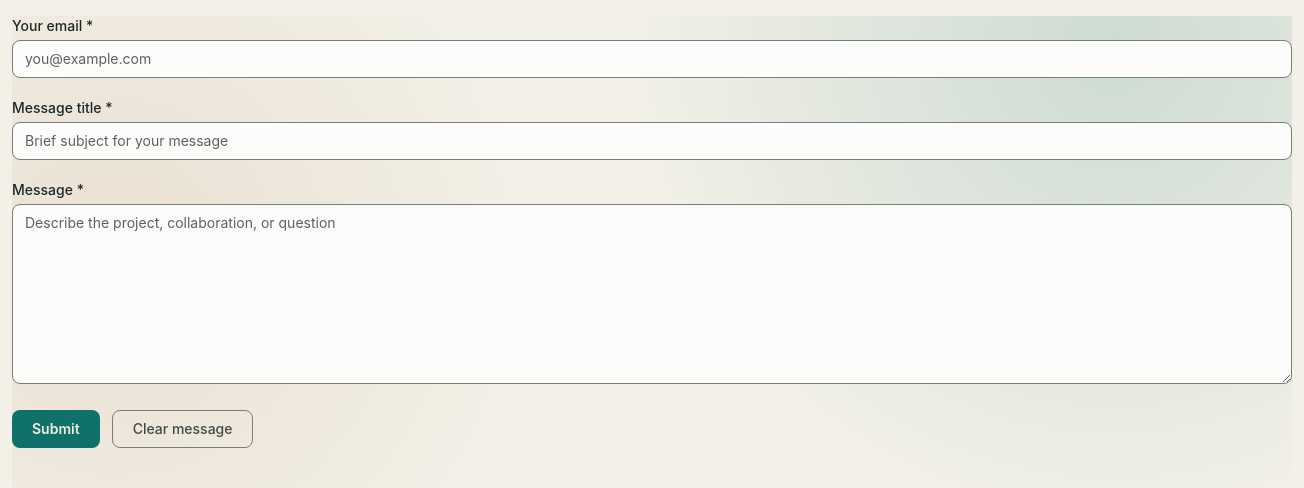
Scenario: ContactForm submit behavior › clear button resets all fields and status
In the field labelled "Your email *": (652, 59) x1=12 y1=40 x2=1292 y2=78, type "visitor@example.com"
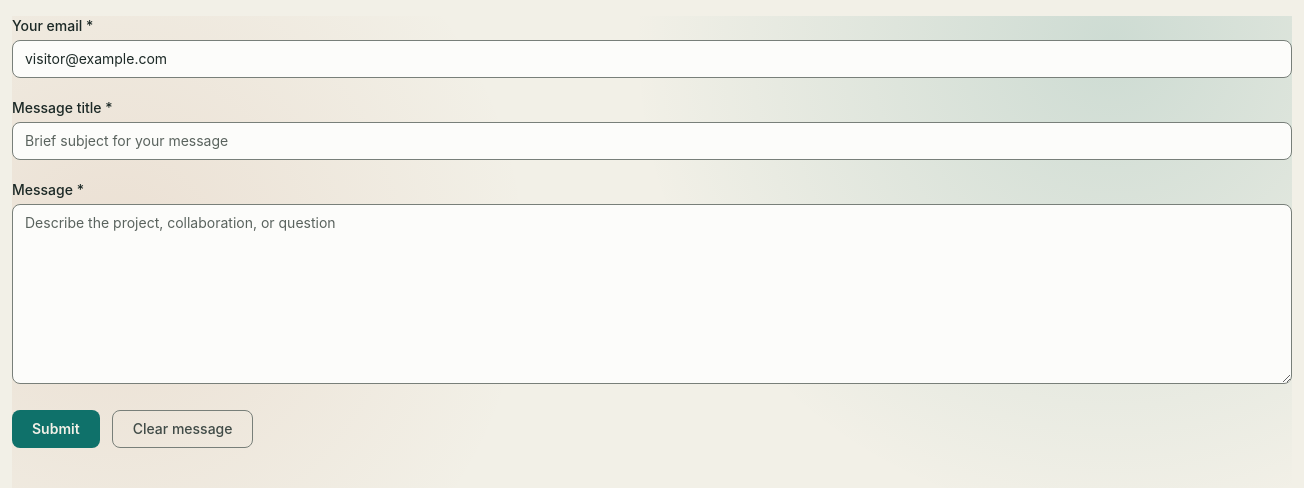
In the field labelled "Message title *": (652, 141) x1=12 y1=122 x2=1292 y2=160, type "Hello there"
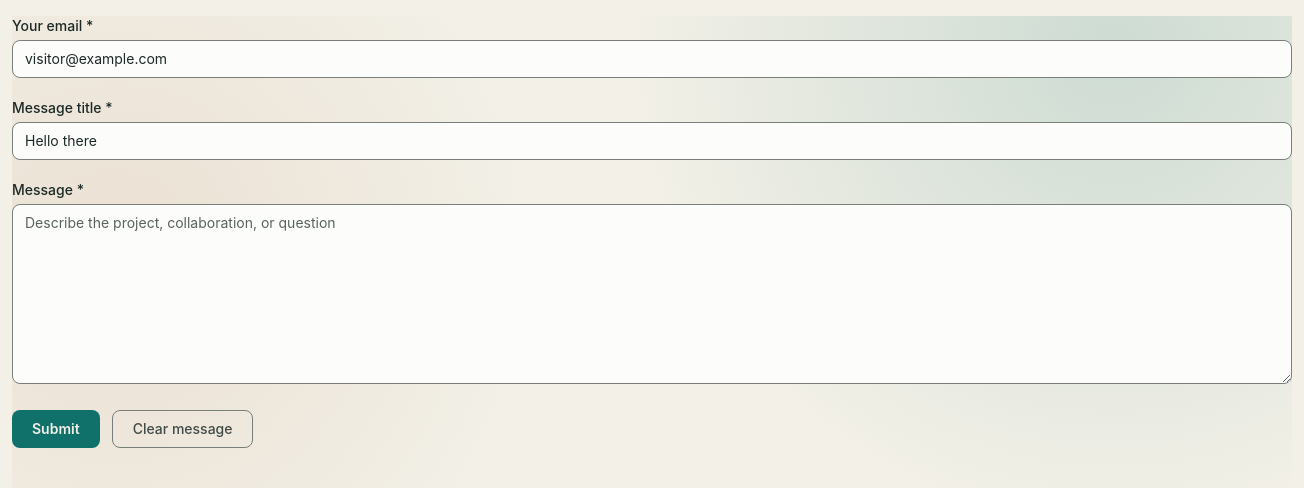
In the text box labelled "Message *": (652, 294) x1=12 y1=204 x2=1292 y2=384, type "This is a long enough test message."
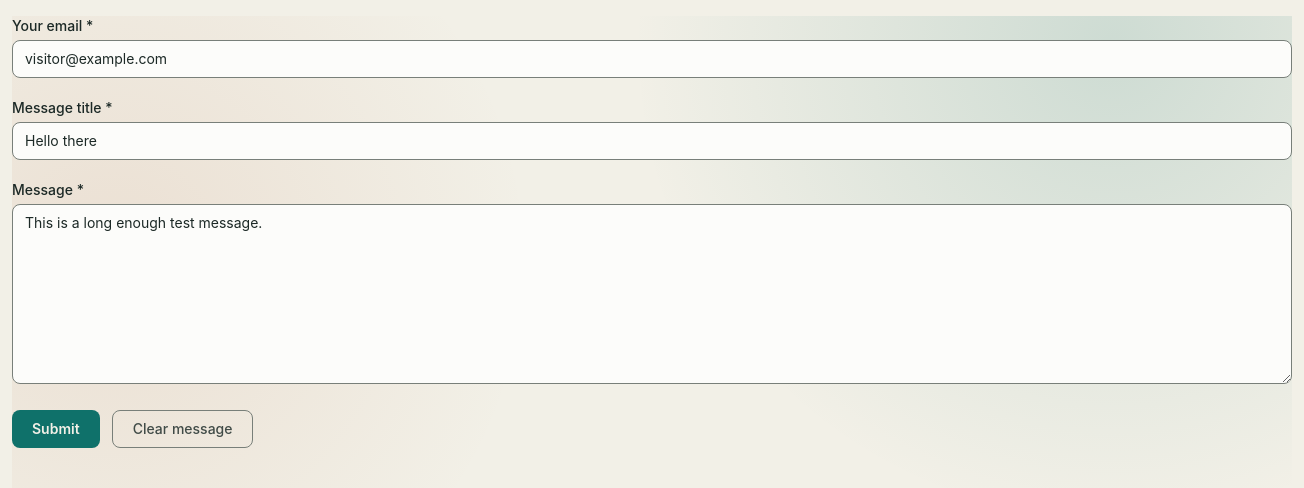
Click the button "Clear message": (182, 429) x1=112 y1=410 x2=253 y2=448
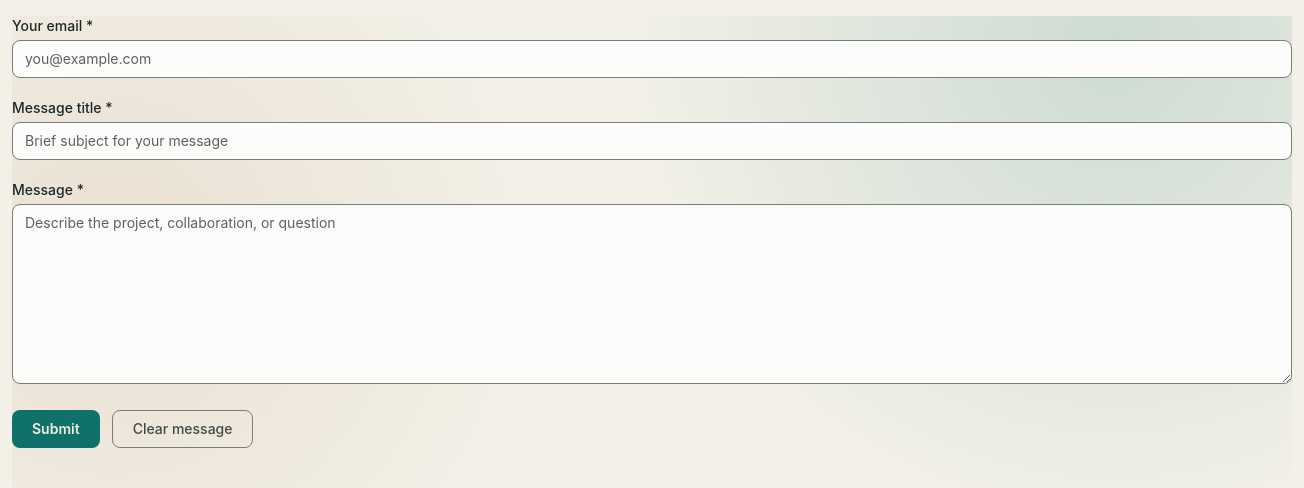
Expected: the field labelled "Your email *" is empty, x1=12 y1=40 x2=1292 y2=78
Expected: the field labelled "Message title *" is empty, x1=12 y1=122 x2=1292 y2=160
Expected: the text box labelled "Message *" is empty, x1=12 y1=204 x2=1292 y2=384
